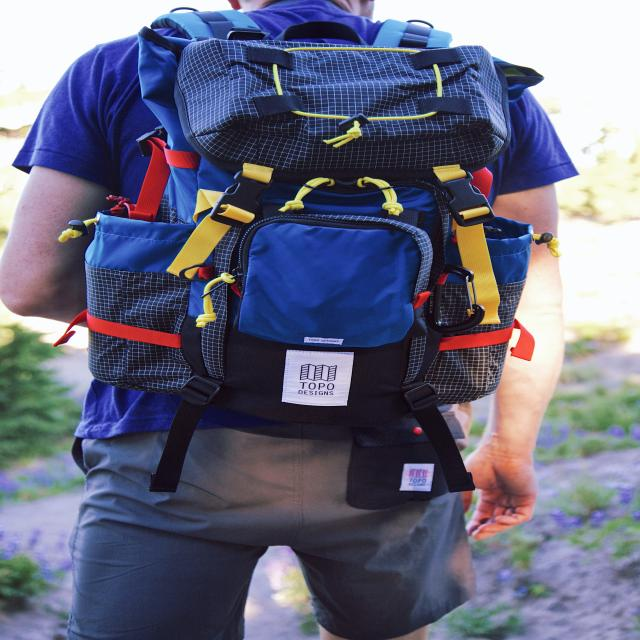backpack: (77, 5, 530, 428)
